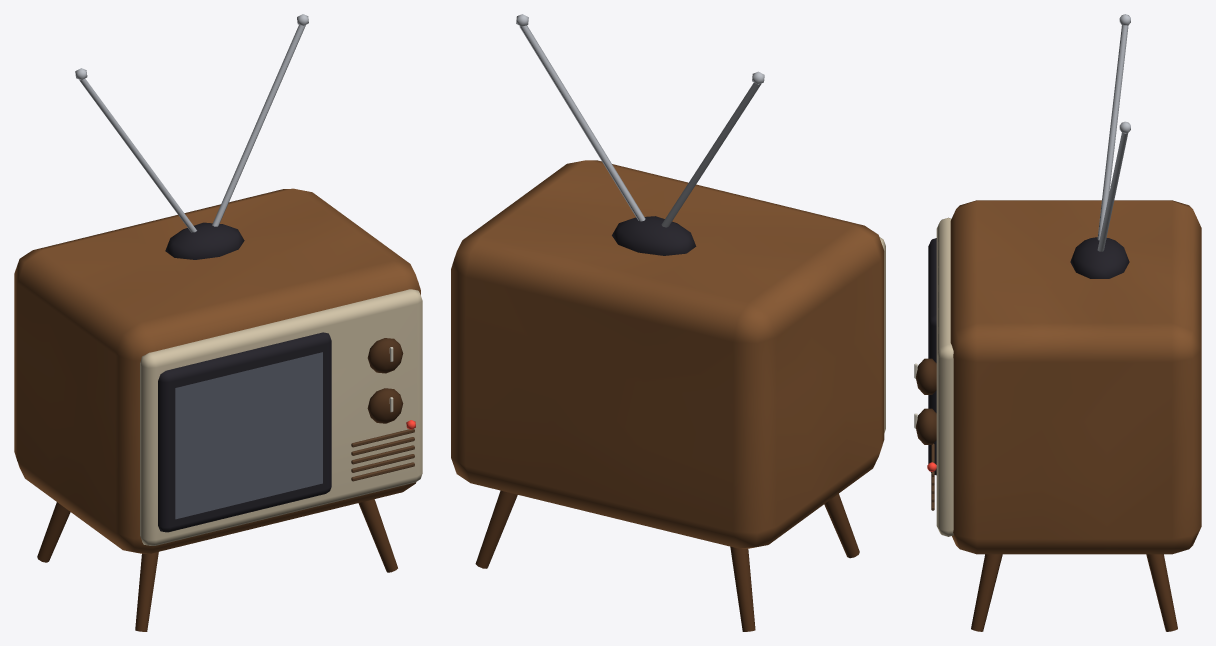
The model's file is furn_tv_retro.glb.
The picture shows the model from 3 angles, left to right: view 1: azimuth 30°, elevation 25°; view 2: azimuth 150°, elevation 25°; view 3: azimuth 270°, elevation 25°; orthographic projection. The views are drawn at different scales.
Parts seen in each view (by area): view 1: furn_tv_retro_main, furn_tv_retro_screen; view 2: furn_tv_retro_main; view 3: furn_tv_retro_main.
Boxes of the visible parts, <box> form: furn_tv_retro_main: <box>14,14,422,631</box>; furn_tv_retro_screen: <box>175,352,322,519</box>; furn_tv_retro_main: <box>451,14,885,631</box>; furn_tv_retro_main: <box>914,14,1201,631</box>.
Bounding box in the file's own units: 0.82 × 1.31 × 0.678.
